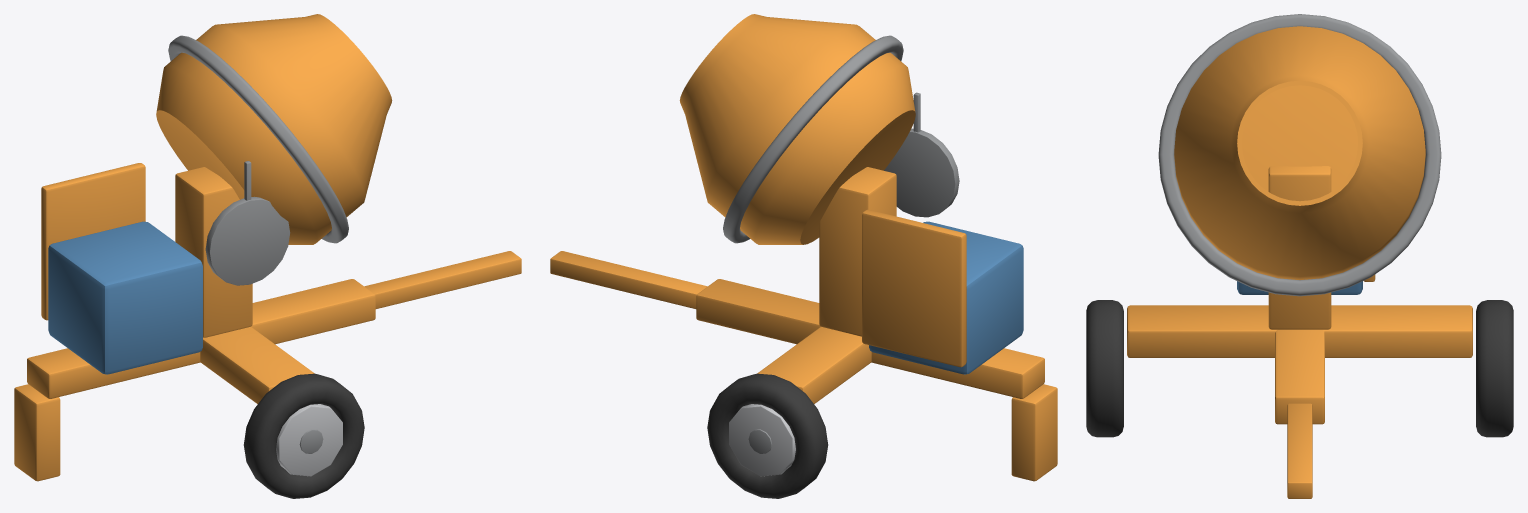
Rendered from EQP-CON-001.glb.
3 views of the same model, side by side, from view 1: azimuth 30°, elevation 25°; view 2: azimuth 150°, elevation 25°; view 3: azimuth 270°, elevation 25° (orthographic). The views are drawn at different scales.
Parts seen in each view (by area): view 1: EQP-CON-001_tambor, EQP-CON-001_motor, EQP-CON-001_chassi, EQP-CON-001_roda-1_pneu, EQP-CON-001_protecao, EQP-CON-001_coluna, EQP-CON-001_volante, EQP-CON-001_travessa, EQP-CON-001_cremalheira, EQP-CON-001_pe, EQP-CON-001_lanca, EQP-CON-001_roda-1_aro; view 2: EQP-CON-001_tambor, EQP-CON-001_protecao, EQP-CON-001_chassi, EQP-CON-001_roda1_pneu, EQP-CON-001_motor, EQP-CON-001_coluna, EQP-CON-001_travessa, EQP-CON-001_volante, EQP-CON-001_cremalheira, EQP-CON-001_pe, EQP-CON-001_lanca, EQP-CON-001_roda1_aro; view 3: EQP-CON-001_tambor, EQP-CON-001_travessa, EQP-CON-001_cremalheira, EQP-CON-001_roda1_pneu, EQP-CON-001_roda-1_pneu, EQP-CON-001_coluna, EQP-CON-001_chassi, EQP-CON-001_lanca, EQP-CON-001_motor.
Part boxes in pixels (x1,y1,x2,y2): EQP-CON-001_tambor: (156, 14, 392, 244); EQP-CON-001_motor: (48, 221, 202, 374); EQP-CON-001_chassi: (27, 279, 375, 398); EQP-CON-001_roda-1_pneu: (243, 373, 364, 498); EQP-CON-001_protecao: (41, 163, 145, 320); EQP-CON-001_coluna: (175, 167, 252, 337); EQP-CON-001_volante: (205, 196, 290, 285); EQP-CON-001_travessa: (200, 326, 314, 403); EQP-CON-001_cremalheira: (168, 35, 348, 243); EQP-CON-001_pe: (14, 384, 60, 481); EQP-CON-001_lanca: (364, 251, 521, 308); EQP-CON-001_roda-1_aro: (276, 404, 342, 476); EQP-CON-001_tambor: (679, 14, 915, 244); EQP-CON-001_protecao: (862, 209, 966, 367); EQP-CON-001_chassi: (696, 279, 1044, 398); EQP-CON-001_roda1_pneu: (707, 373, 828, 498); EQP-CON-001_motor: (869, 221, 1023, 374); EQP-CON-001_coluna: (819, 167, 896, 336); EQP-CON-001_travessa: (757, 326, 871, 403); EQP-CON-001_volante: (884, 128, 959, 217); EQP-CON-001_cremalheira: (723, 35, 903, 243); EQP-CON-001_pe: (1011, 384, 1057, 481); EQP-CON-001_lanca: (550, 251, 707, 308); EQP-CON-001_roda1_aro: (729, 404, 795, 476); EQP-CON-001_tambor: (1174, 26, 1425, 279); EQP-CON-001_travessa: (1127, 305, 1472, 357); EQP-CON-001_cremalheira: (1158, 14, 1441, 296); EQP-CON-001_roda1_pneu: (1476, 300, 1513, 437); EQP-CON-001_roda-1_pneu: (1086, 300, 1123, 437); EQP-CON-001_coluna: (1268, 166, 1331, 329); EQP-CON-001_chassi: (1275, 329, 1324, 424); EQP-CON-001_lanca: (1287, 403, 1312, 498); EQP-CON-001_motor: (1237, 281, 1362, 294).
Bounding box in the file's own units: 1.95 × 1.47 × 1.36.
